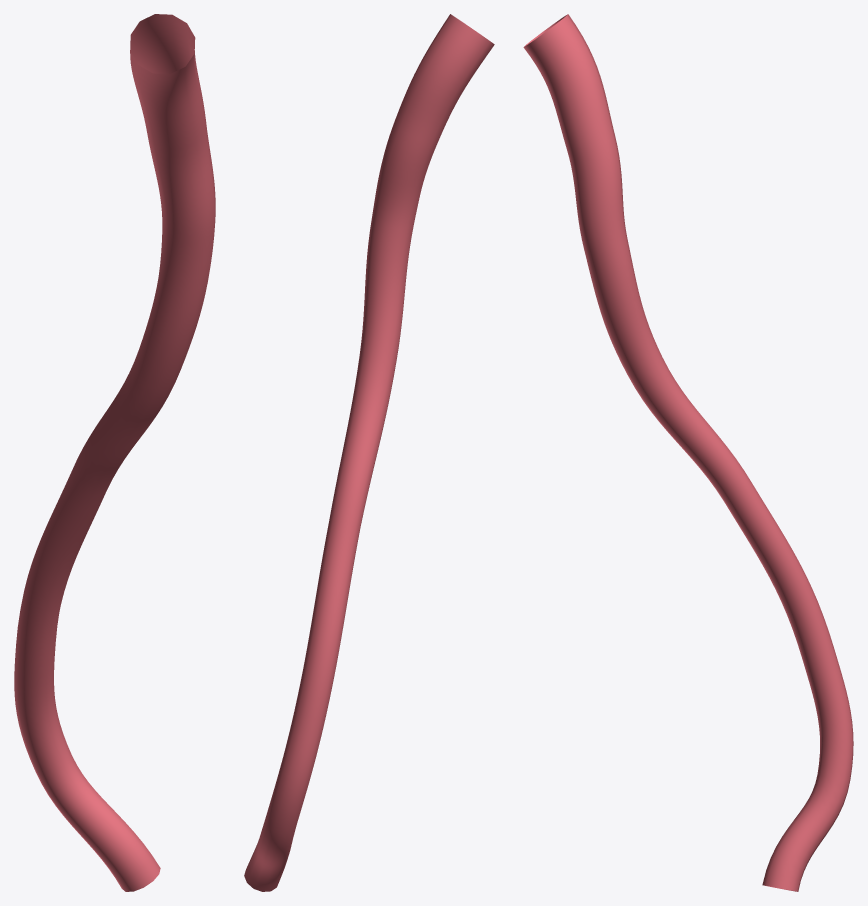
3 renders of one model, left to right at view 1: azimuth 30°, elevation 25°; view 2: azimuth 150°, elevation 25°; view 3: azimuth 270°, elevation 25°, orthographic. The views are drawn at different scales.
Visible parts, largest first — view 1: ZA_6f91348b186fcf1b; view 2: ZA_6f91348b186fcf1b; view 3: ZA_6f91348b186fcf1b.
Part boxes in pixels (x1,y1,x2,y2): ZA_6f91348b186fcf1b: (14, 14, 215, 891); ZA_6f91348b186fcf1b: (244, 14, 494, 891); ZA_6f91348b186fcf1b: (523, 14, 853, 891).
Bounding box in the file's own units: 0.0281 × 0.1642 × 0.0589.
